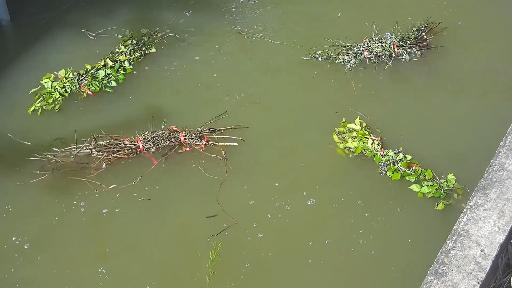twig: (18, 100, 249, 189), (17, 21, 179, 123), (314, 106, 466, 208), (299, 19, 457, 83), (192, 240, 252, 288)
